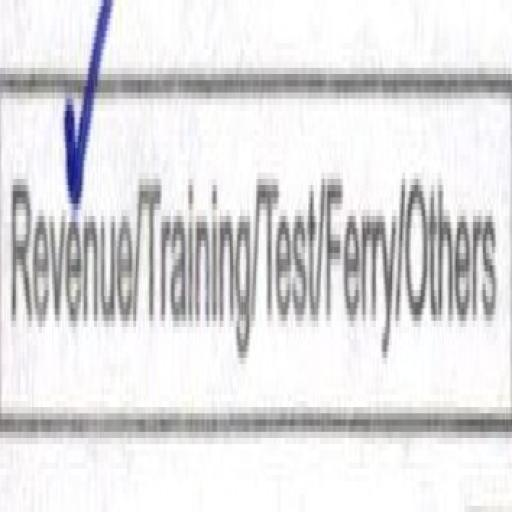check: (0, 33, 138, 512)
